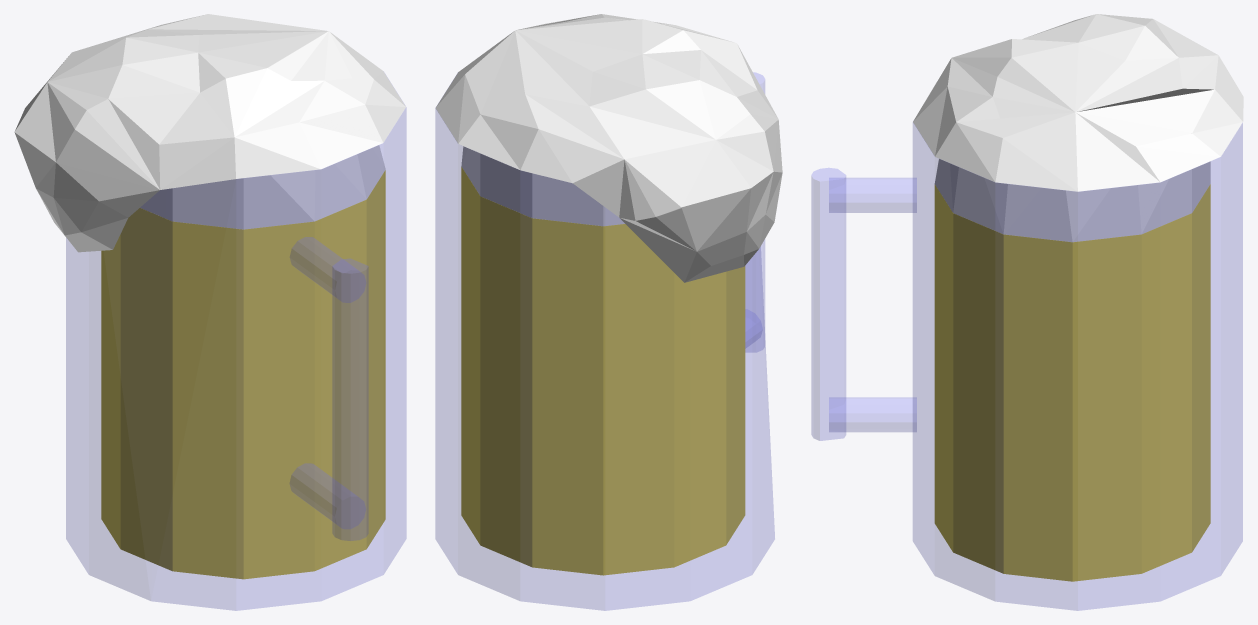
3 renders of one model, left to right at view 1: azimuth 30°, elevation 25°; view 2: azimuth 150°, elevation 25°; view 3: azimuth 270°, elevation 25°, orthographic. The views are drawn at different scales.
Visible parts, largest first — view 1: node_MeshObject-1570110464-PolyPaper12, node_MeshObject-2142189568-PolyGlass24; view 2: node_MeshObject-1570110464-PolyPaper12, node_MeshObject-2142189568-PolyGlass24; view 3: node_MeshObject-2142189568-PolyGlass24, node_MeshObject-1570110464-PolyPaper12.
Boxes of the visible parts, box(x1,y1,x2,y2) form: node_MeshObject-1570110464-PolyPaper12: box(14, 14, 405, 579); node_MeshObject-2142189568-PolyGlass24: box(66, 107, 406, 610); node_MeshObject-1570110464-PolyPaper12: box(435, 14, 782, 575); node_MeshObject-2142189568-PolyGlass24: box(435, 72, 774, 610); node_MeshObject-2142189568-PolyGlass24: box(811, 123, 1242, 610); node_MeshObject-1570110464-PolyPaper12: box(913, 14, 1243, 581).
Size of the model in its own units: 0.1686 by 0.2415 by 0.1964.
